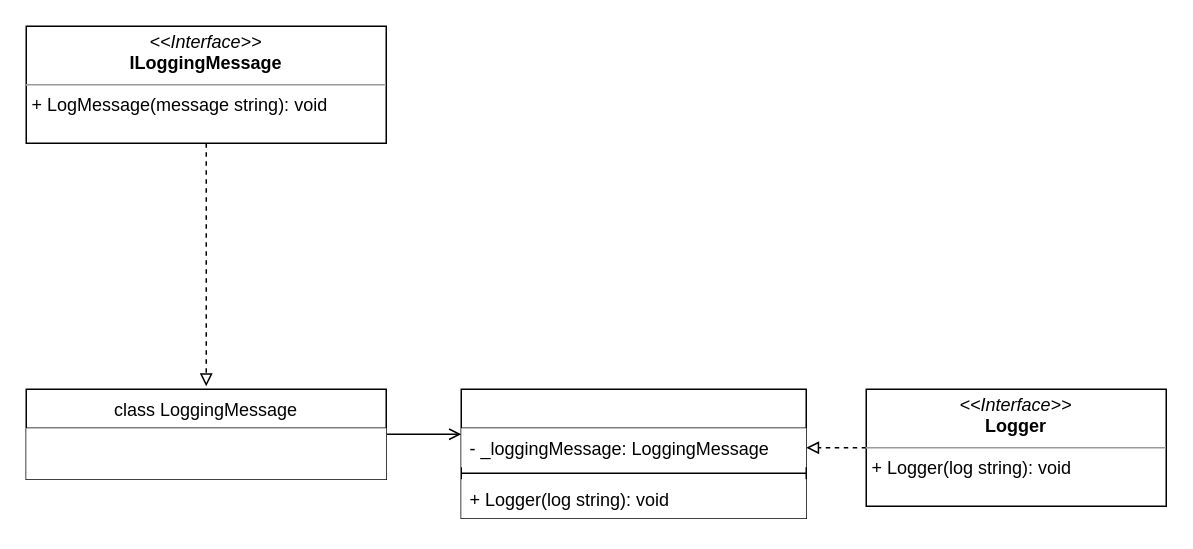
This 1193x549 diagram has some shape labels left out. Here are the shapes that lost their labels. From the top down, the box of each, then its label:
(26, 428, 386, 478): + LogMessage(message string): void
(460, 388, 806, 518): class LogMessageAdapter
